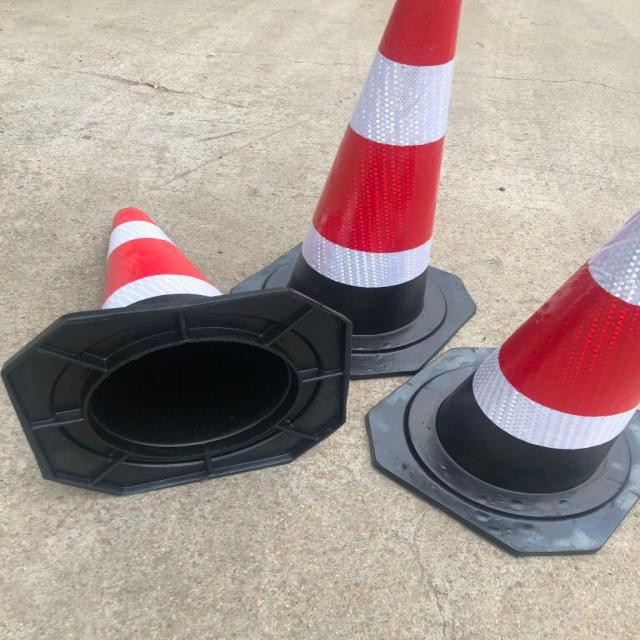reflective_cone: (10, 207, 356, 492), (218, 3, 480, 377), (365, 210, 639, 555)
